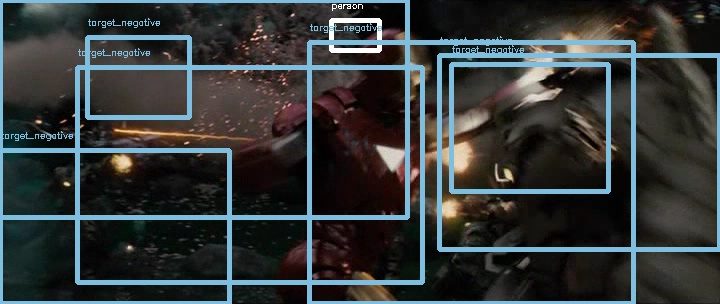person: (364, 32, 428, 103), (363, 32, 427, 103), (365, 32, 429, 103), (364, 31, 428, 102), (364, 33, 428, 104)
target_negative: (637, 180, 693, 243), (220, 280, 387, 295), (589, 258, 660, 281), (425, 272, 494, 290), (264, 134, 502, 138)
